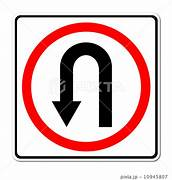back: (20, 20, 153, 152)
